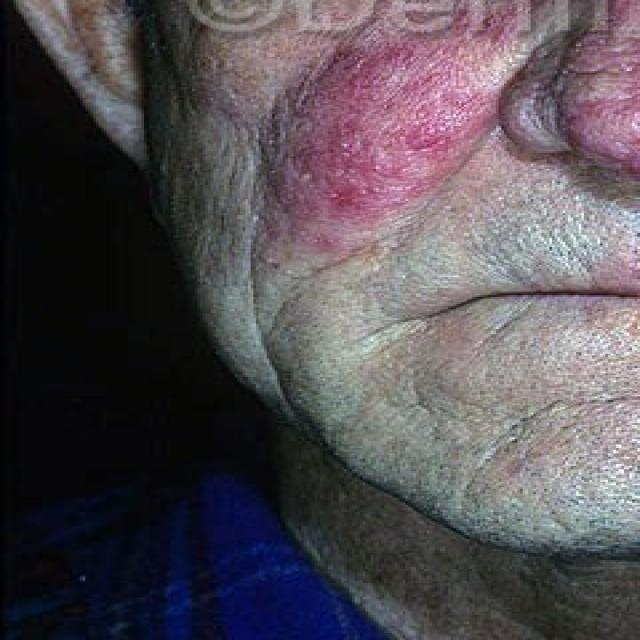Rosacea: (261, 50, 471, 226)
